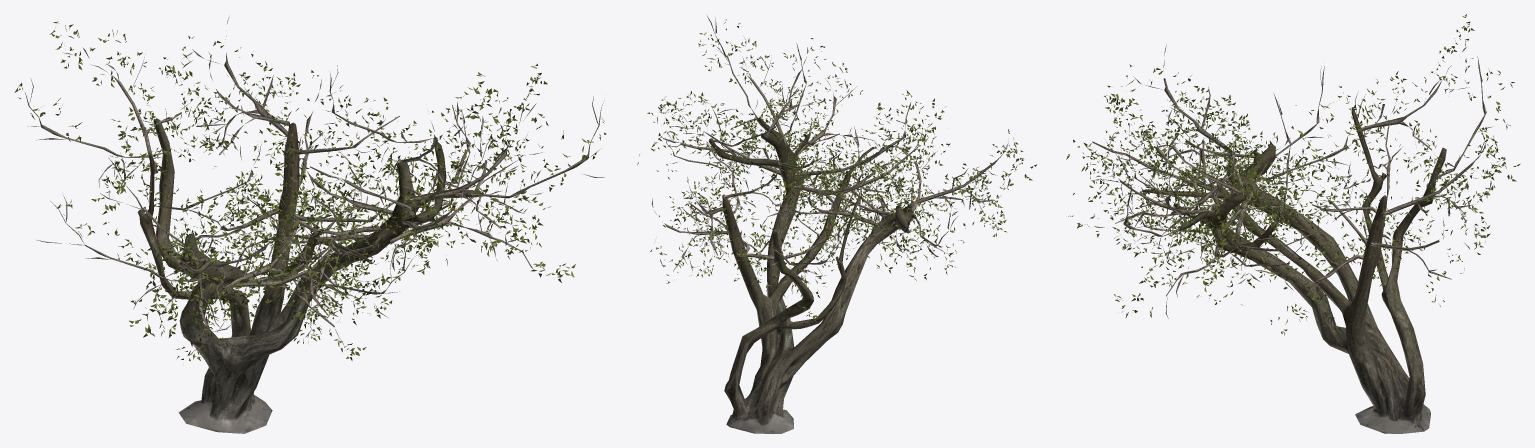
Rendered from island2.glb.
3 views of the same model, side by side, from view 1: azimuth 30°, elevation 25°; view 2: azimuth 150°, elevation 25°; view 3: azimuth 270°, elevation 25° (orthographic). The views are drawn at different scales.
Parts seen in each view (by area): view 1: LOD0; view 2: LOD0; view 3: LOD0.
Part boxes in pixels (x1,y1,x2,y2): LOD0: (14, 17, 606, 433); LOD0: (637, 16, 1037, 433); LOD0: (1066, 14, 1520, 433).
Size of what is drawn, in the model's own units: 4.05 by 3.4 by 4.03.
Materials: 3 (3 with a texture image).
